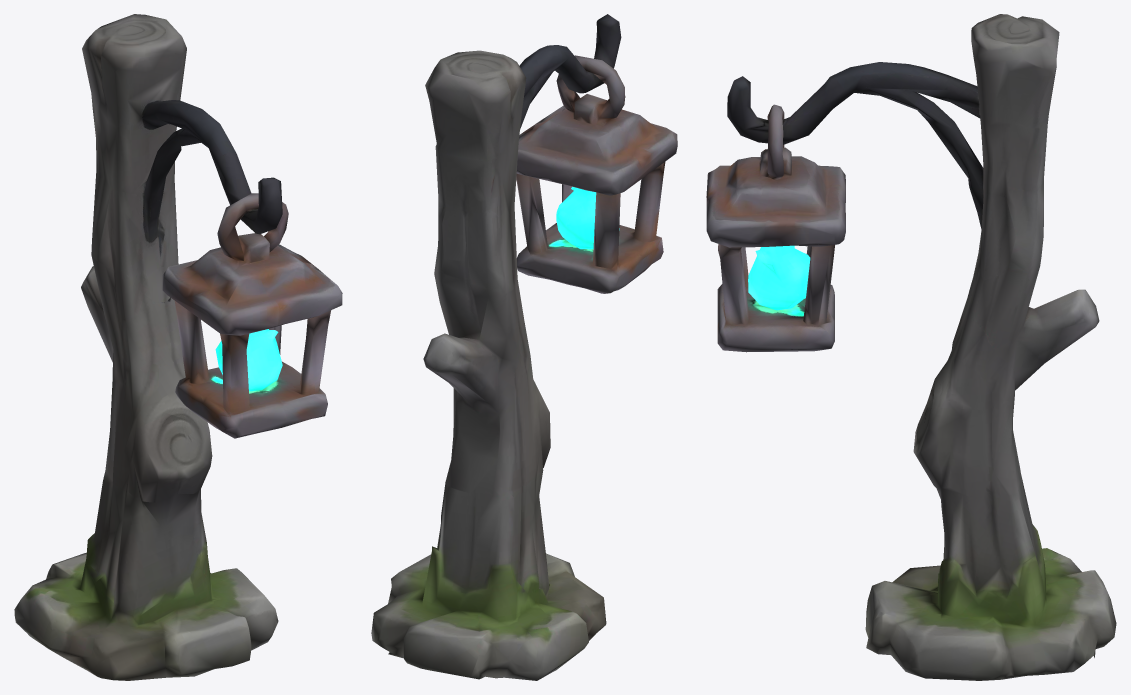
File: gy_lantern-Cu7A-2rO.glb
3 renders of one model, left to right at view 1: azimuth 30°, elevation 25°; view 2: azimuth 150°, elevation 25°; view 3: azimuth 270°, elevation 25°, orthographic. The views are drawn at different scales.
Visible parts, largest first — view 1: tripo_node_2446327e-e320-4f9c-9aeb-a060886f5187; view 2: tripo_node_2446327e-e320-4f9c-9aeb-a060886f5187; view 3: tripo_node_2446327e-e320-4f9c-9aeb-a060886f5187.
Part boxes in pixels (x1,y1,x2,y2): tripo_node_2446327e-e320-4f9c-9aeb-a060886f5187: [14, 14, 342, 680]; tripo_node_2446327e-e320-4f9c-9aeb-a060886f5187: [371, 14, 677, 680]; tripo_node_2446327e-e320-4f9c-9aeb-a060886f5187: [706, 14, 1116, 680].
Bounding box in the file's own units: 0.353 × 1 × 0.6158.
Materials: 1 (1 with a texture image).
